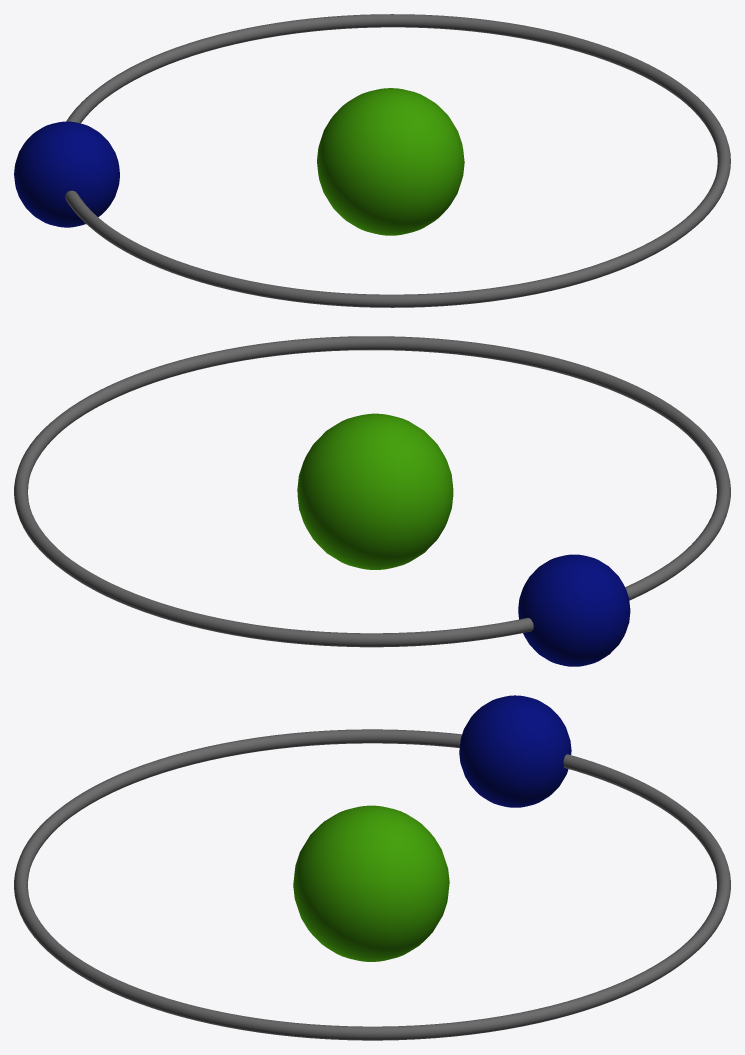
File: hydrogen atom.FBX
3 renders of one model, top to bottom at view 1: azimuth 30°, elevation 25°; view 2: azimuth 150°, elevation 25°; view 3: azimuth 270°, elevation 25°, orthographic. The views are drawn at different scales.
Visible parts, largest first — view 1: Circle010, Sphere034, Sphere035; view 2: Circle010, Sphere034, Sphere035; view 3: Circle010, Sphere034, Sphere035.
Part boxes in pixels (x1,y1,x2,y2): Circle010: (65, 14, 730, 307); Sphere034: (317, 88, 464, 235); Sphere035: (14, 121, 119, 227); Circle010: (14, 336, 730, 647); Sphere034: (297, 413, 453, 569); Sphere035: (518, 554, 630, 666); Circle010: (14, 729, 730, 1040); Sphere034: (293, 805, 449, 961); Sphere035: (459, 695, 571, 807).
Size of the model in its own units: 51.93 by 11.14 by 50.99.
